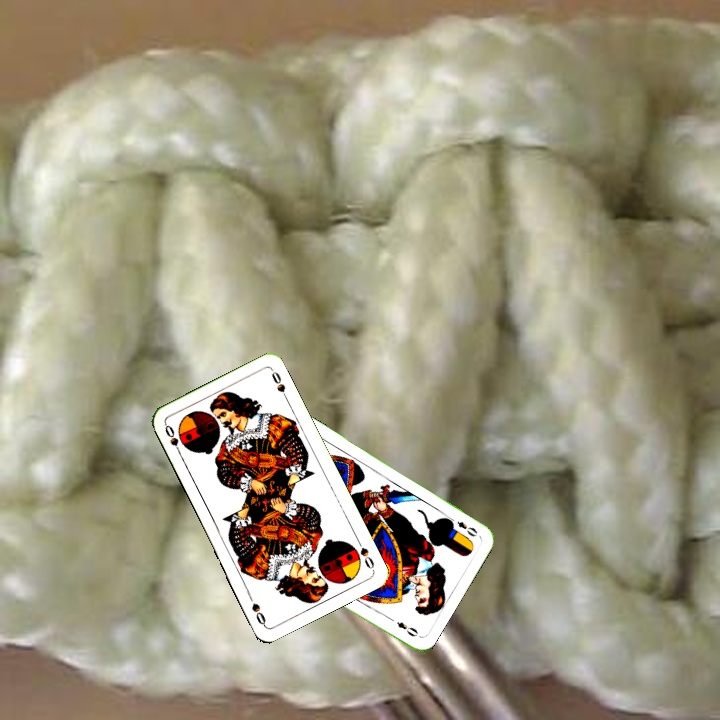EO: (444, 512, 480, 540)
SO: (353, 535, 377, 573), (161, 420, 184, 459)
